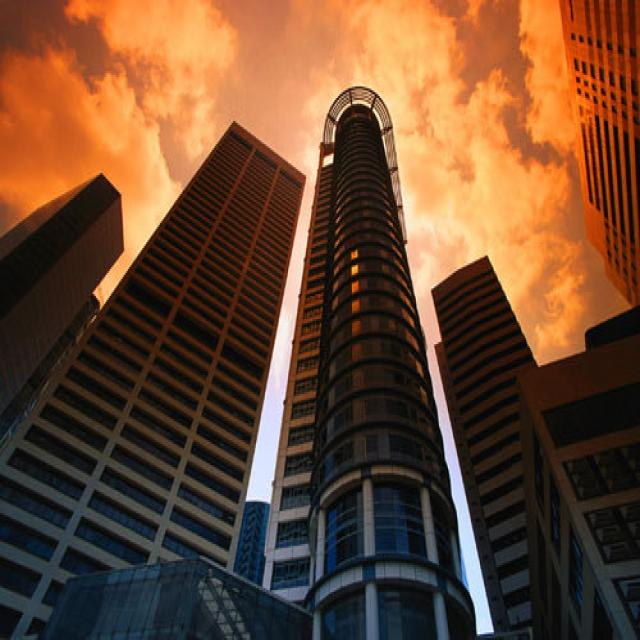building: (39, 85, 480, 640), (0, 120, 308, 640), (433, 252, 640, 640), (0, 169, 125, 457), (558, 0, 639, 311)
